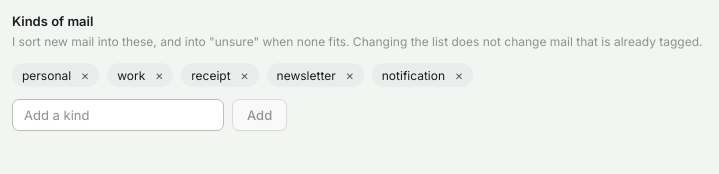
Test: the kinds editor › takes a kind away, and keeps the last one
Click the button named "Remove receipt" at (245, 75), box [235,65,255,85]
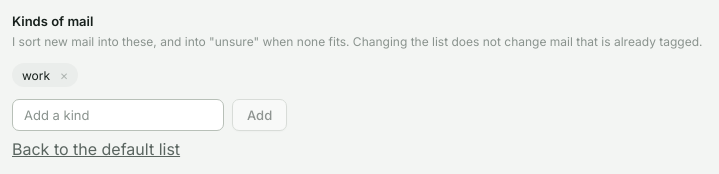
Result: the button named "Remove work" is disabled at [54,65,74,85]
